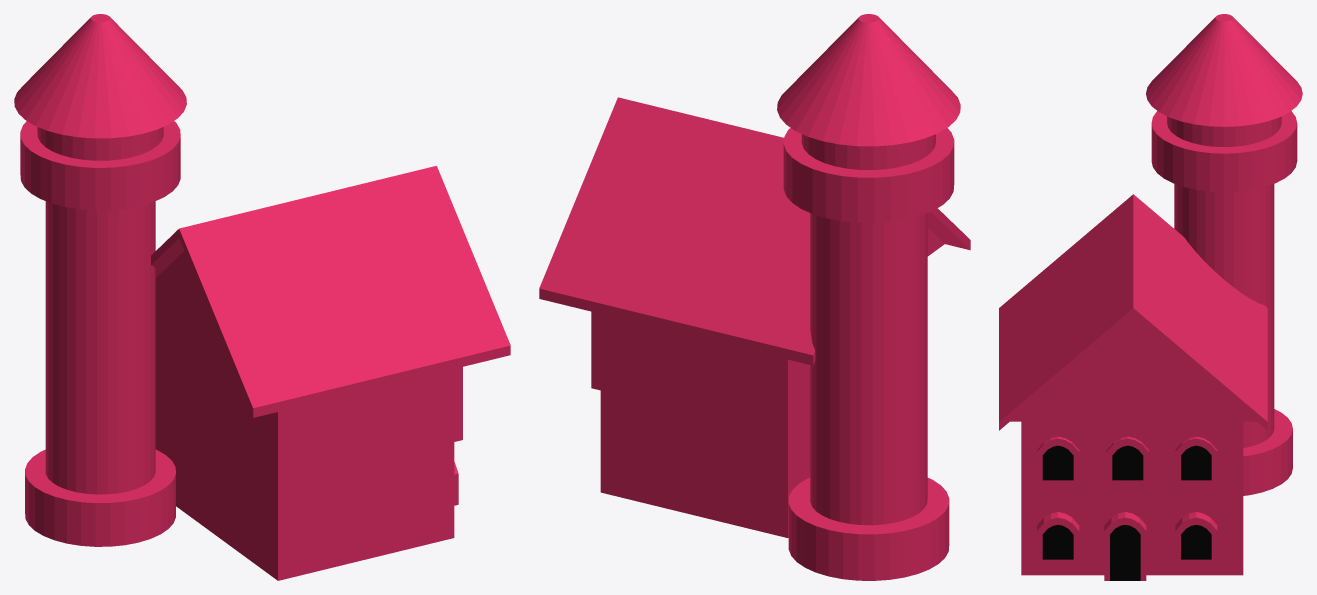
The model's file is tavern02.glb.
The picture shows the model from 3 angles, left to right: view 1: azimuth 30°, elevation 25°; view 2: azimuth 150°, elevation 25°; view 3: azimuth 270°, elevation 25°; orthographic projection. The views are drawn at different scales.
Visible parts, largest first — view 1: Tower02; view 2: Tower02; view 3: Tower02.
Boxes of the visible parts, x1=… form: Tower02: x1=14, y1=14, x2=510, y2=580; Tower02: x1=539, y1=14, x2=970, y2=580; Tower02: x1=999, y1=14, x2=1302, y2=580.
Size of the model in its own units: 2.54 by 3.34 by 2.04.
